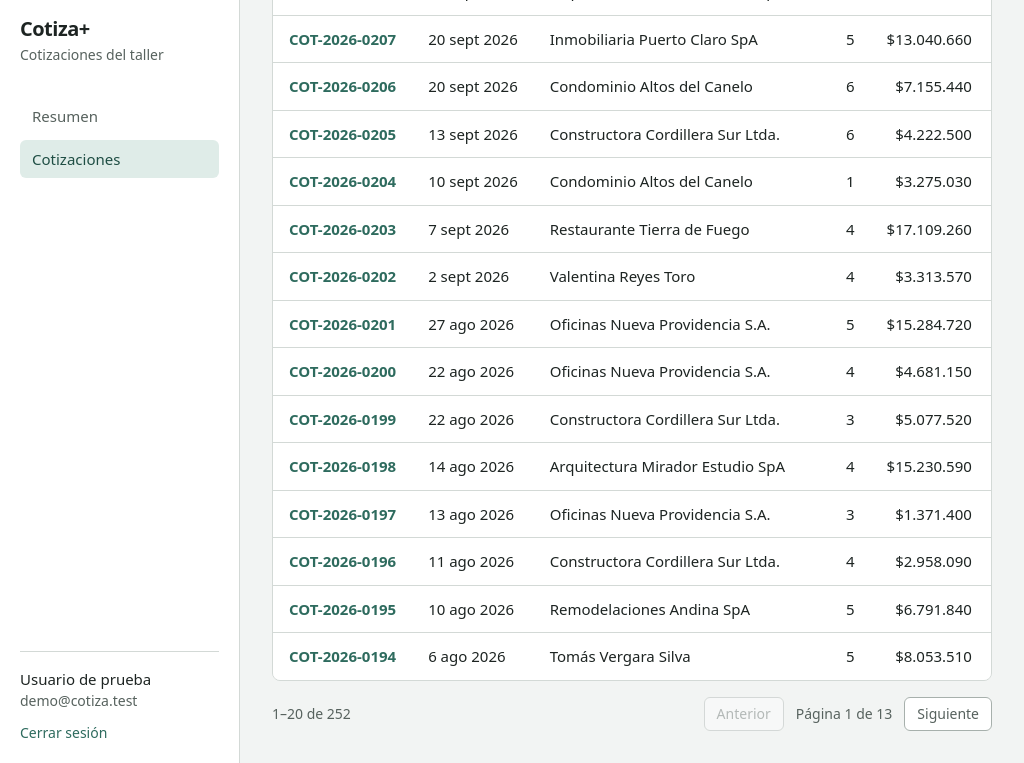
it: Épica 002 · búsquedas y filtros por cliente y año › pagina el listado
This screenshot has width=1024, height=763.
(page scrolled)
Expected: the text "1–20 de 252" is shown, x1=272 y1=704 x2=351 y2=724
Click the button "Siguiente". click: coordinates (948, 714)
box: x1=904 y1=696 x2=992 y2=730
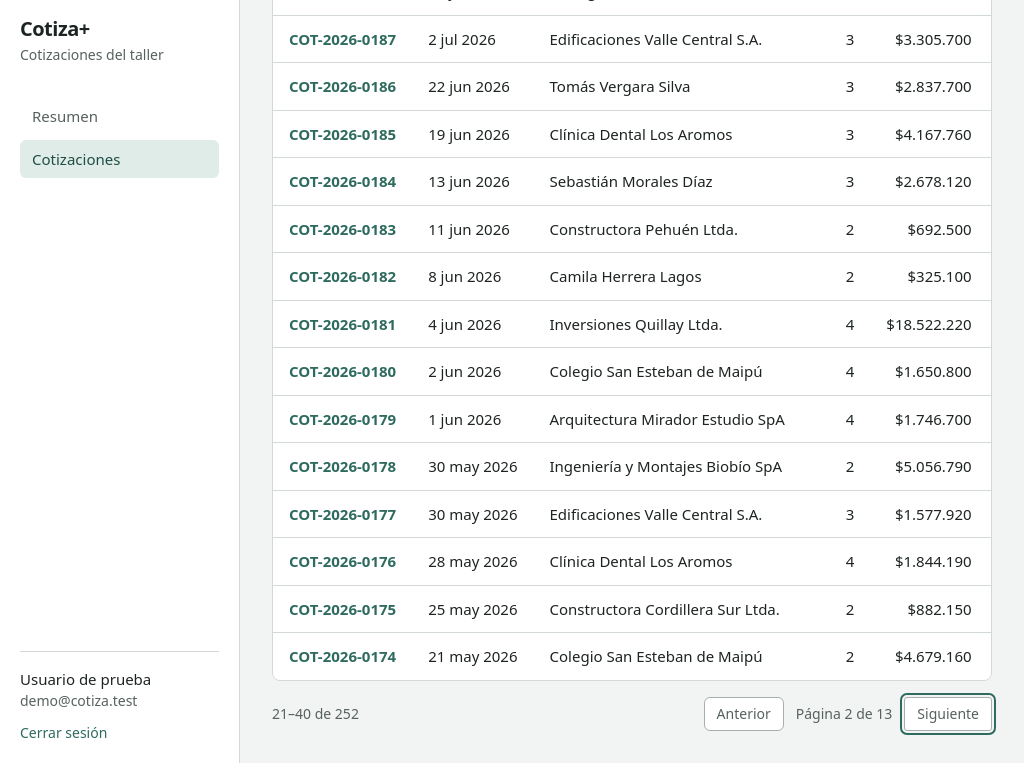
Expected: the text "21–40 de 252" is shown, x1=272 y1=704 x2=359 y2=724
